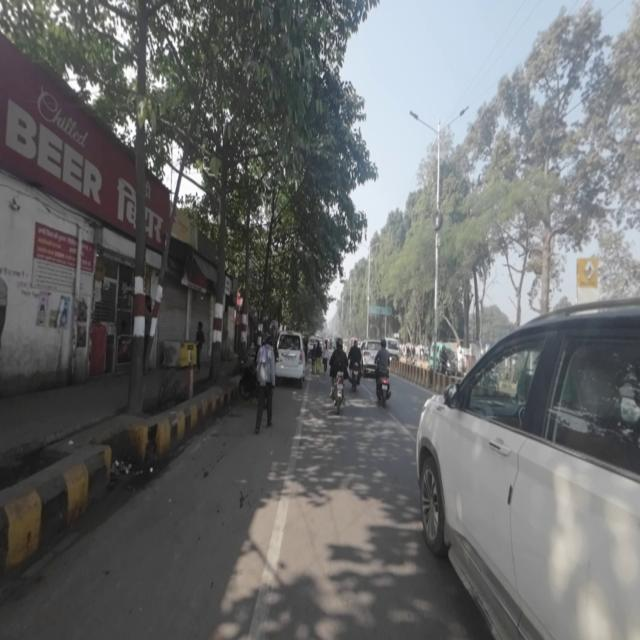Garbage: (115, 449, 140, 484)
